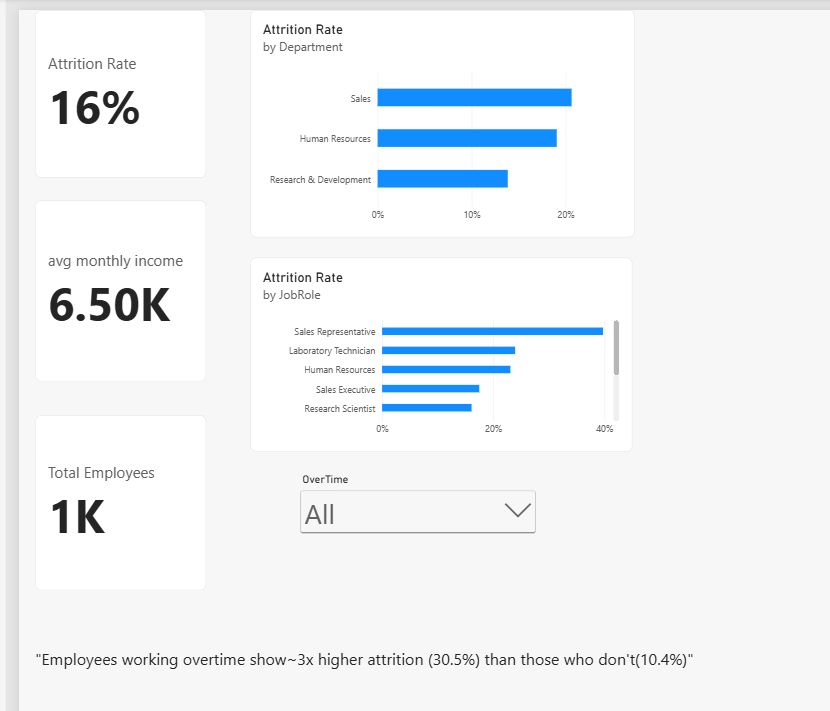

Layout of this report page (visuals, bound fields, positions):
{"tool":"powerbi","page":{"name":"Page 1","canvas":[1920,1080],"ordinal":0},"visuals":[{"type":"cardVisual","fields":{"Data":["WA_Fn-UseC_-HR-Employee-Attrition.Attrition Rate"]},"box":[22,0,228,224],"z":0},{"type":"cardVisual","fields":{"Data":["WA_Fn-UseC_-HR-Employee-Attrition.avg monthly income"]},"box":[22,254,228,242],"z":1000},{"type":"cardVisual","fields":{"Data":["WA_Fn-UseC_-HR-Employee-Attrition.Total Employees"]},"box":[22,540,228,234],"z":2000},{"type":"clusteredBarChart","fields":{"Category":["WA_Fn-UseC_-HR-Employee-Attrition.Department"],"Y":["WA_Fn-UseC_-HR-Employee-Attrition.Attrition Rate"]},"box":[308,0,512.5,303.1],"z":3000},{"type":"clusteredBarChart","fields":{"Category":["WA_Fn-UseC_-HR-Employee-Attrition.JobRole"],"Y":["WA_Fn-UseC_-HR-Employee-Attrition.Attrition Rate"]},"box":[308,330,509.4,259.4],"z":4000},{"type":"slicer","fields":{"Values":["WA_Fn-UseC_-HR-Employee-Attrition.OverTime"]},"box":[370,616,324,158],"z":4001},{"type":"textbox","box":[22,850,894,84],"z":4002}]}

Visuals, with their boxes in screenshot pixels (x1, y1, x2, y2):
cardVisual - WA_Fn-UseC_-HR-Employee-Attrition.Attrition Rate: (left=0, top=231, right=65, bottom=334)
cardVisual - WA_Fn-UseC_-HR-Employee-Attrition.avg monthly income: (left=0, top=348, right=65, bottom=459)
cardVisual - WA_Fn-UseC_-HR-Employee-Attrition.Total Employees: (left=0, top=479, right=65, bottom=586)
clusteredBarChart - WA_Fn-UseC_-HR-Employee-Attrition.Department x WA_Fn-UseC_-HR-Employee-Attrition.Attrition Rate: (left=91, top=231, right=326, bottom=370)
clusteredBarChart - WA_Fn-UseC_-HR-Employee-Attrition.JobRole x WA_Fn-UseC_-HR-Employee-Attrition.Attrition Rate: (left=91, top=382, right=325, bottom=501)
slicer - WA_Fn-UseC_-HR-Employee-Attrition.OverTime: (left=120, top=514, right=268, bottom=586)
textbox: (left=0, top=621, right=370, bottom=659)
